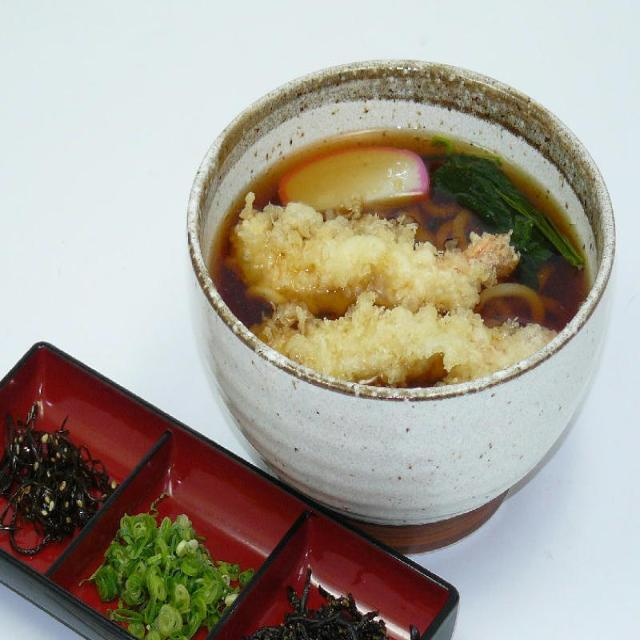面条主食: (208, 136, 574, 426)
